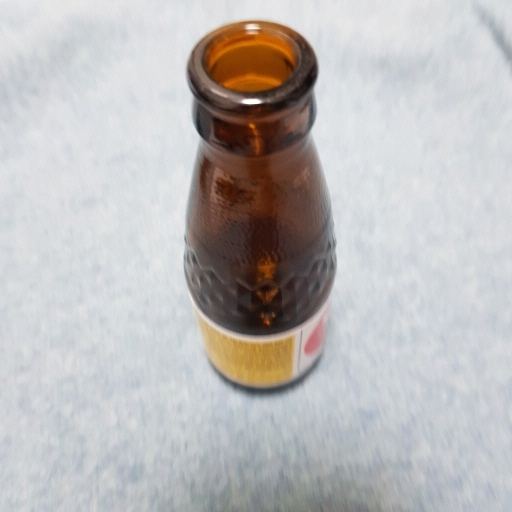Glass_3: (182, 16, 341, 397)
